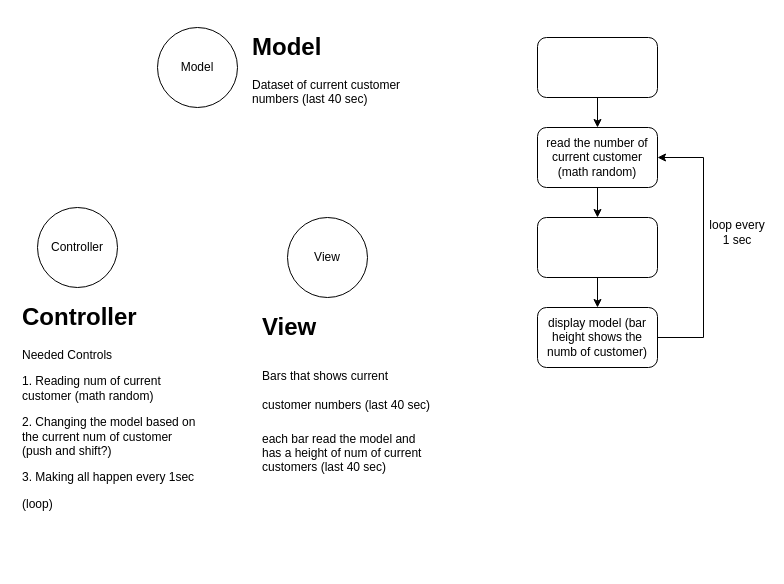
The diagram is 784 pixels wide and 584 high, and some of its shapes have lost their labels. Here are the shapes that lost their labels. From the top down, the box of each, then its label:
(536, 36, 658, 98): init
(536, 216, 658, 278): modify the model (num of current customer dataset for last 40sec)
